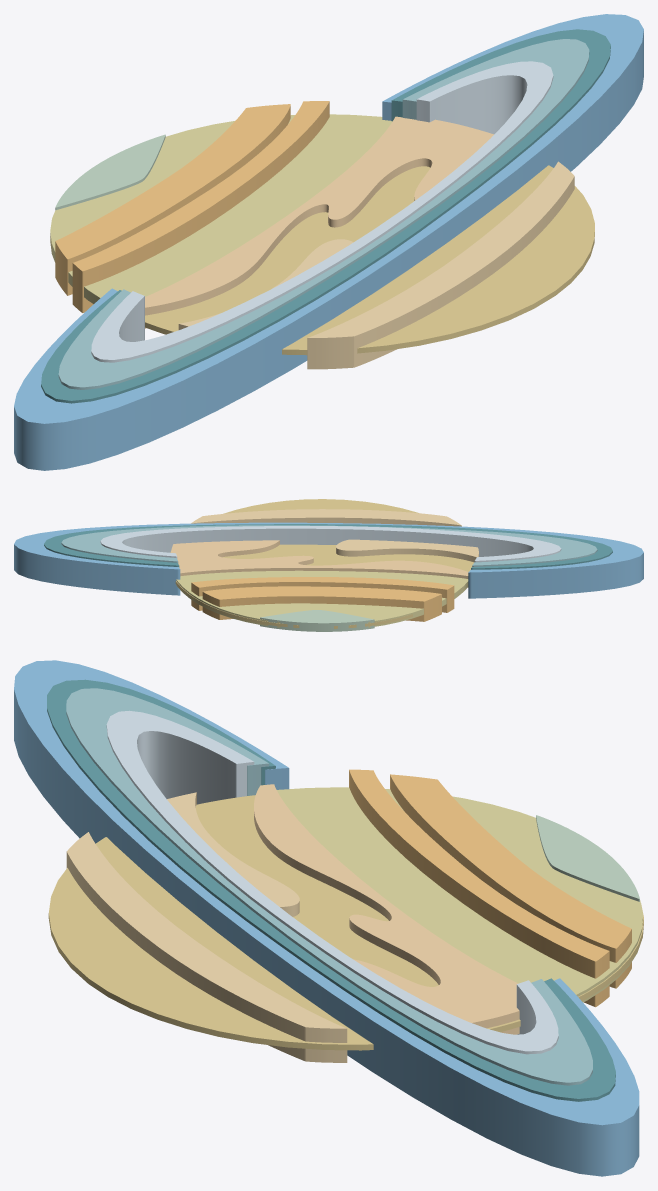
Rendered from emoji_u1fa90.glb.
3 renders of one model, top to bottom at view 1: azimuth 30°, elevation 25°; view 2: azimuth 150°, elevation 25°; view 3: azimuth 270°, elevation 25°, orthographic. The views are drawn at different scales.
Visible parts, largest first — view 1: emoji_u1fa90; view 2: emoji_u1fa90; view 3: emoji_u1fa90.
Boxes of the visible parts, left/top/right/bottom form: emoji_u1fa90: left=14, top=14, right=643, bottom=470; emoji_u1fa90: left=14, top=499, right=643, bottom=631; emoji_u1fa90: left=14, top=660, right=643, bottom=1176.
Bounding box in the file's own units: 0.0349 × 0.0024 × 0.02.
